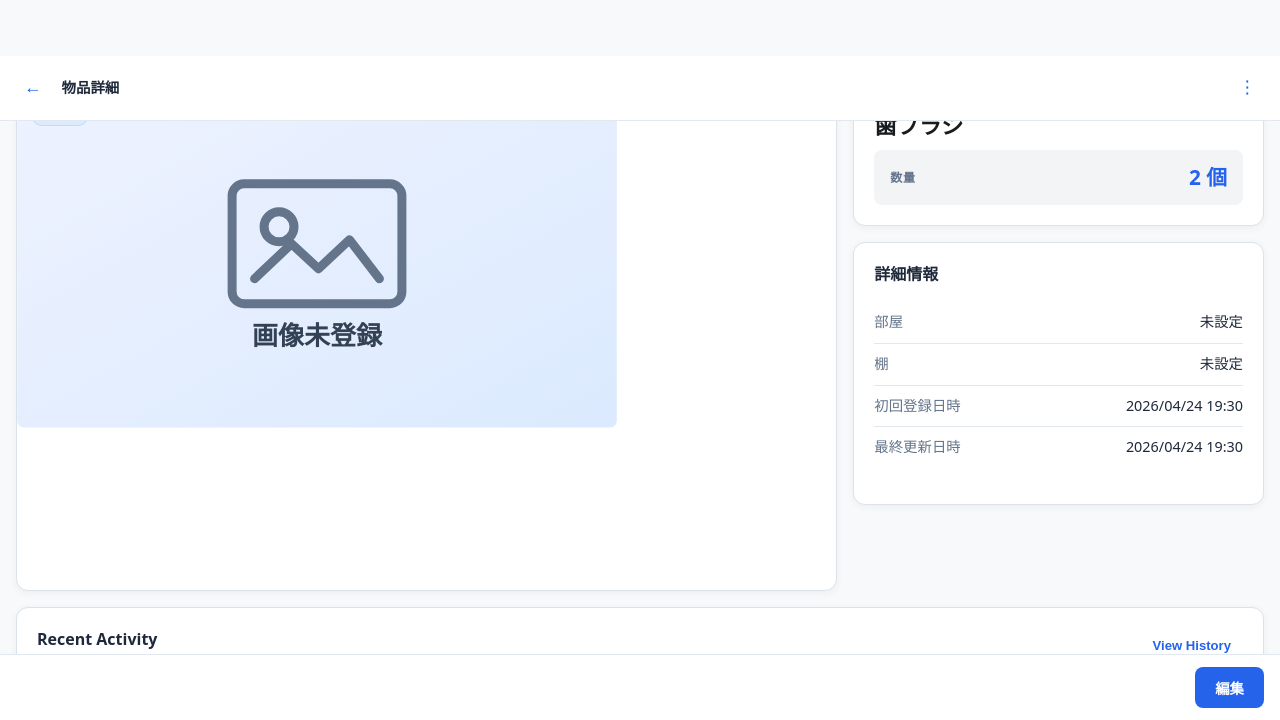
Test: ItemDetailPage › 3点リーダーをクリックするとアクションメニューが表示される
Click the button with class "menu-btn" at (1247, 88), box [1230,71,1264,105]
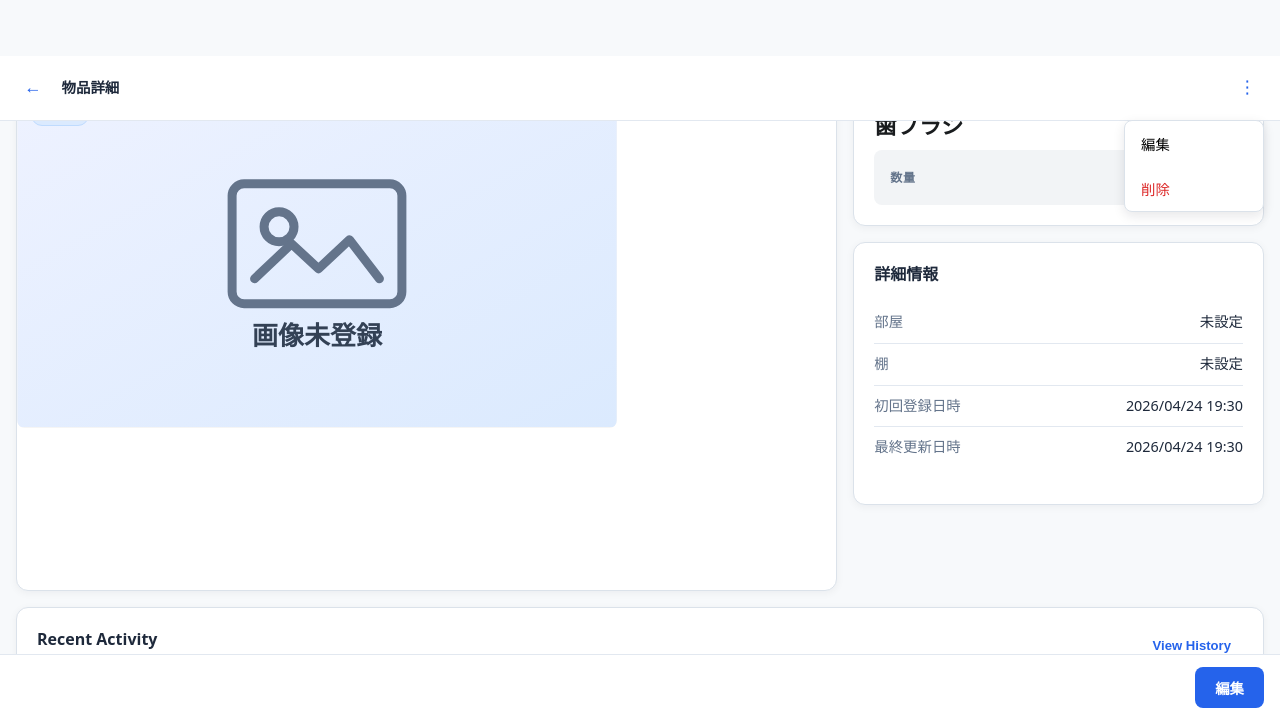
Now the element with class "action-menu" is shown, box [1124,120,1264,212]
Now the text "削除" is shown, box [1125,166,1263,211]
